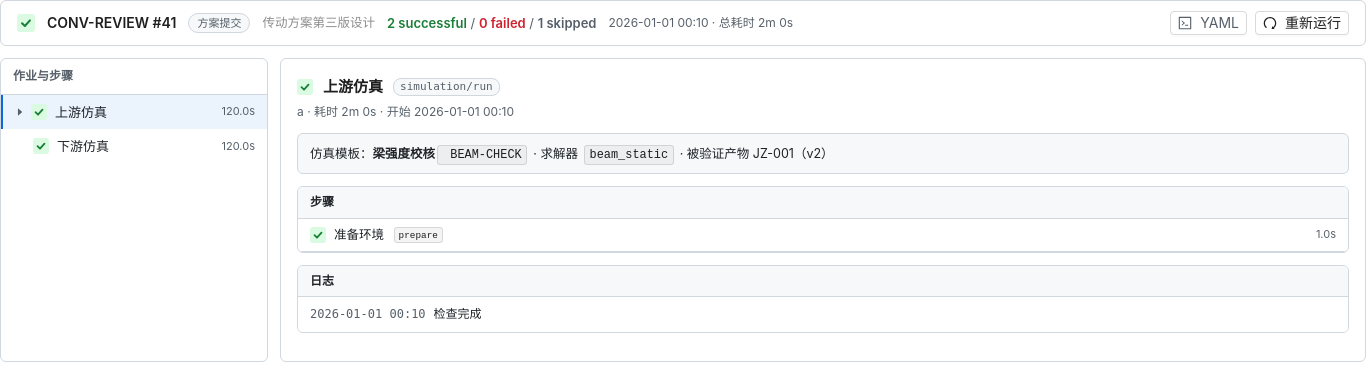
Test case: 运行详情视图 › 重新运行成功后提示新运行编号
// antd 图标带 aria-label，按钮可访问名含图标前缀，改用文本定位
Click the button "重新运行".
click(1302, 23)  # box [1255,11,1349,35]
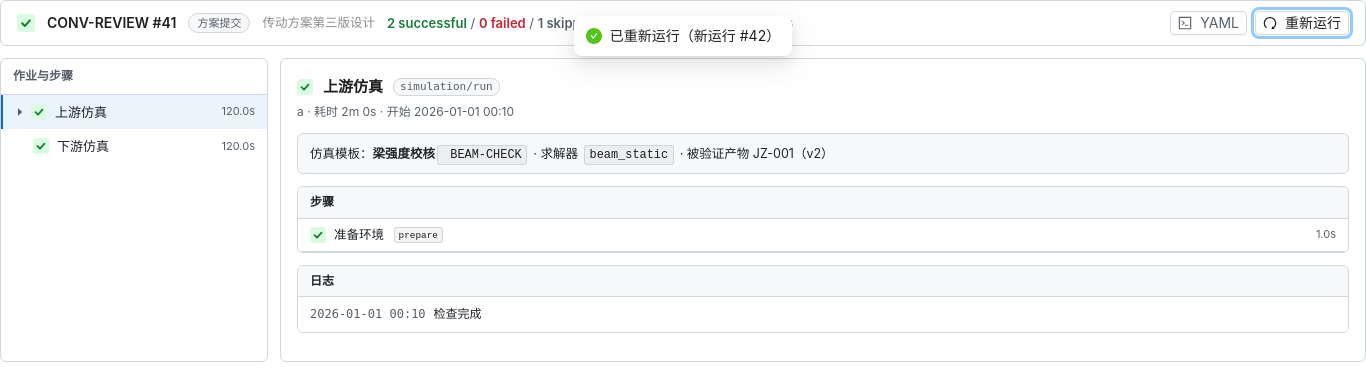
Expected: the text "已重新运行（新运行 #42）" is shown, [610,25,780,47]
